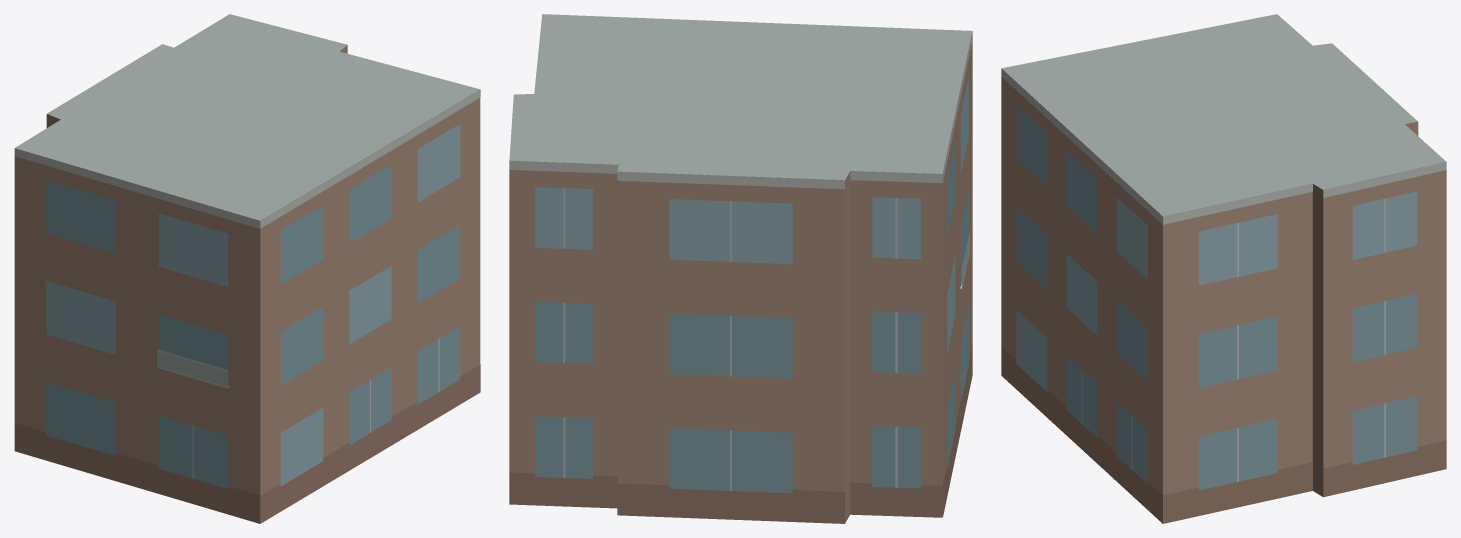
The model's file is survey-upis-32664958.glb.
The picture shows the model from 3 angles, left to right: view 1: azimuth 30°, elevation 25°; view 2: azimuth 150°, elevation 25°; view 3: azimuth 270°, elevation 25°; orthographic projection. The views are drawn at different scales.
Visible parts, largest first — view 1: survey-upis-32664958.tmp; view 2: survey-upis-32664958.tmp; view 3: survey-upis-32664958.tmp.
Part boxes in pixels (x1=…): survey-upis-32664958.tmp: x1=14, y1=14, x2=480, y2=523; survey-upis-32664958.tmp: x1=509, y1=14, x2=972, y2=523; survey-upis-32664958.tmp: x1=1001, y1=14, x2=1446, y2=523.
Size of the model in its own units: 12.95 by 9.15 by 12.02.
